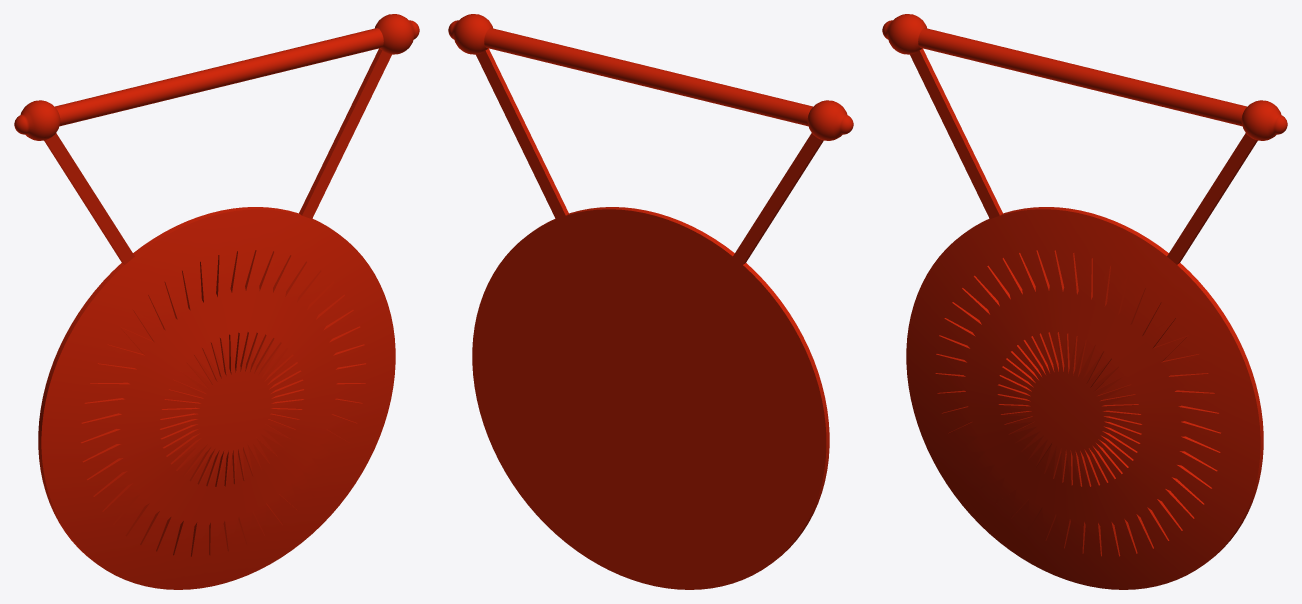
Rendered from gong.fbx.
The picture shows the model from 3 angles, left to right: view 1: azimuth 30°, elevation 25°; view 2: azimuth 150°, elevation 25°; view 3: azimuth 330°, elevation 25°; orthographic projection.
Visible parts, largest first — view 1: gong; view 2: gong; view 3: gong.
Part boxes in pixels (<box>): gong: <box>14,14,419,589</box>; gong: <box>448,14,853,589</box>; gong: <box>882,14,1287,589</box>.
Bounding box in the file's own units: 56.83 × 70.8 × 7.01.
